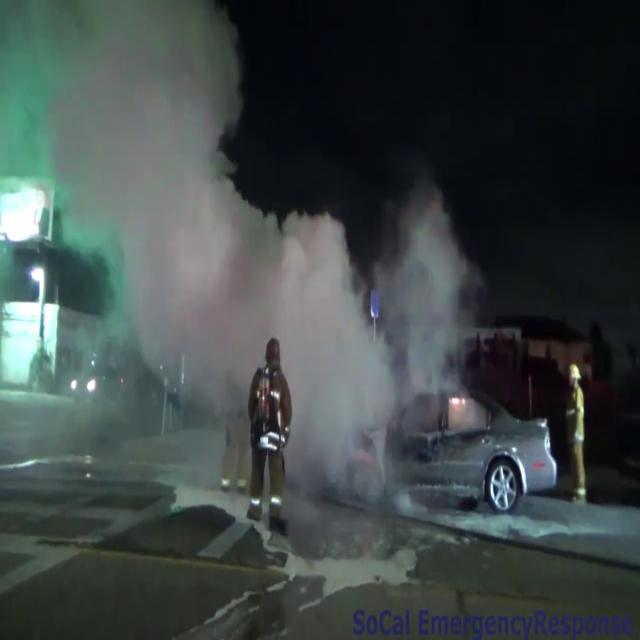Smoke: (0, 0, 398, 517), (372, 172, 490, 392)
